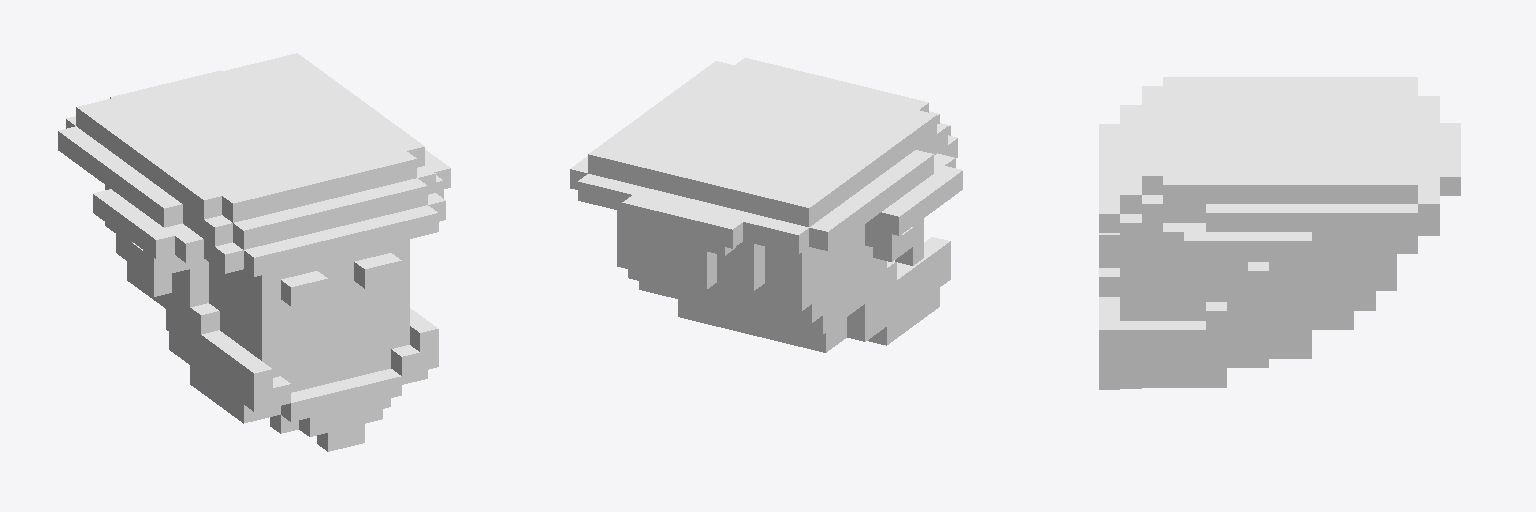
Rendered from Head.obj.
3 renders of one model, left to right at view 1: azimuth 30°, elevation 25°; view 2: azimuth 150°, elevation 25°; view 3: azimuth 270°, elevation 25°, orthographic.
Parts seen in each view (by area): view 1: object 1; view 2: object 1; view 3: object 1.
Part boxes in pixels (left/top/right/bottom): object 1: left=58, top=53, right=450, bottom=451; object 1: left=570, top=58, right=962, bottom=352; object 1: left=1099, top=77, right=1460, bottom=389.
Size of the model in its own units: 1.6 by 1.3 by 1.7.